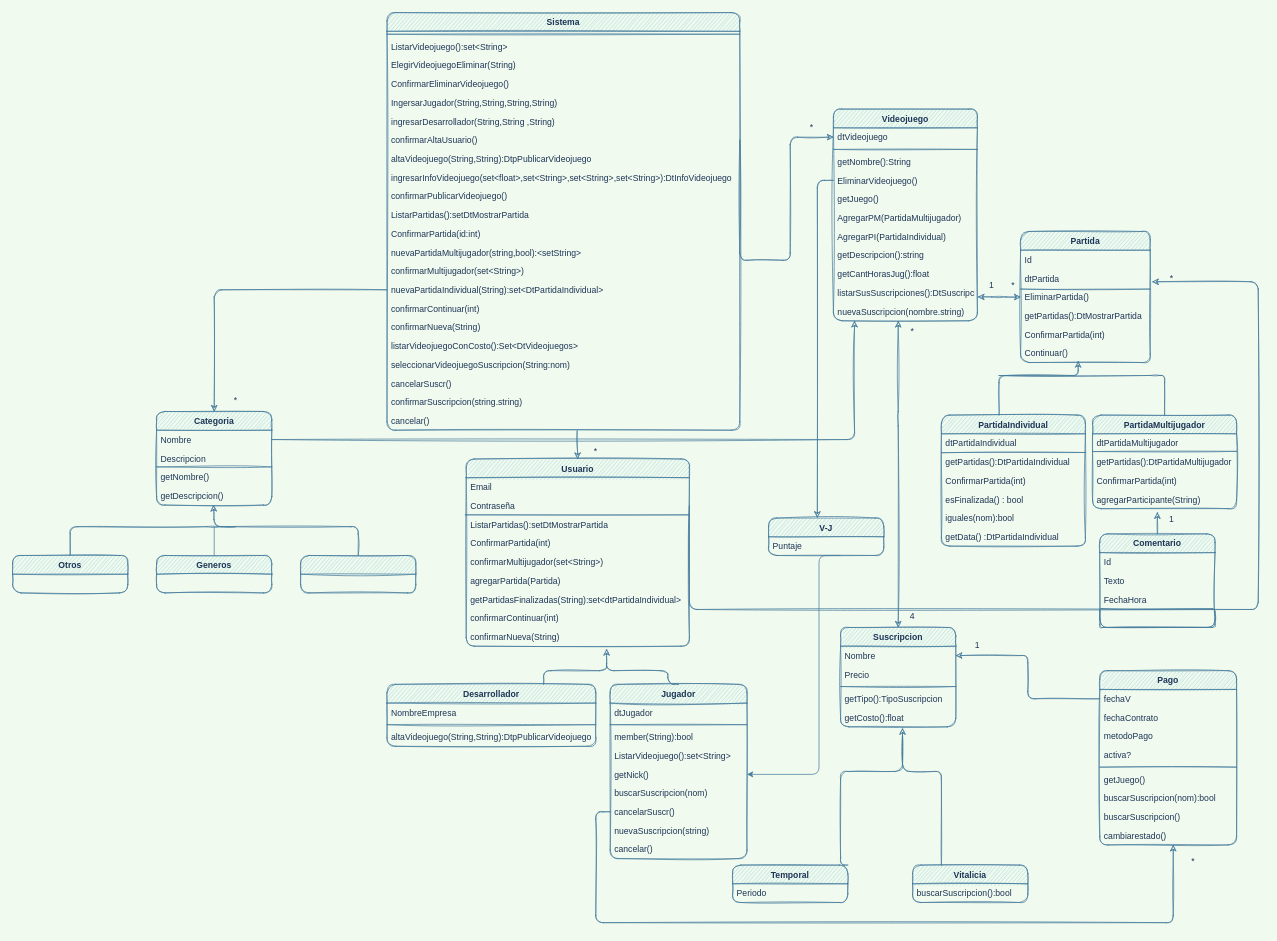
Image size: 1277x941. Some labels were removed from this diagram. The shapes that lost their labels are listed below. From the top down, each one's centre as x and y in pixels, then its label:
point (358, 574): Plataformas
point (1157, 617): EliminarComentario()
